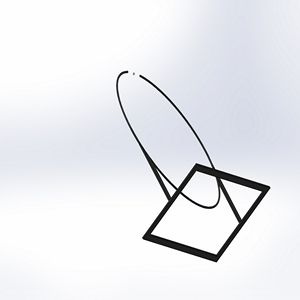circle: (112, 68, 271, 262)
